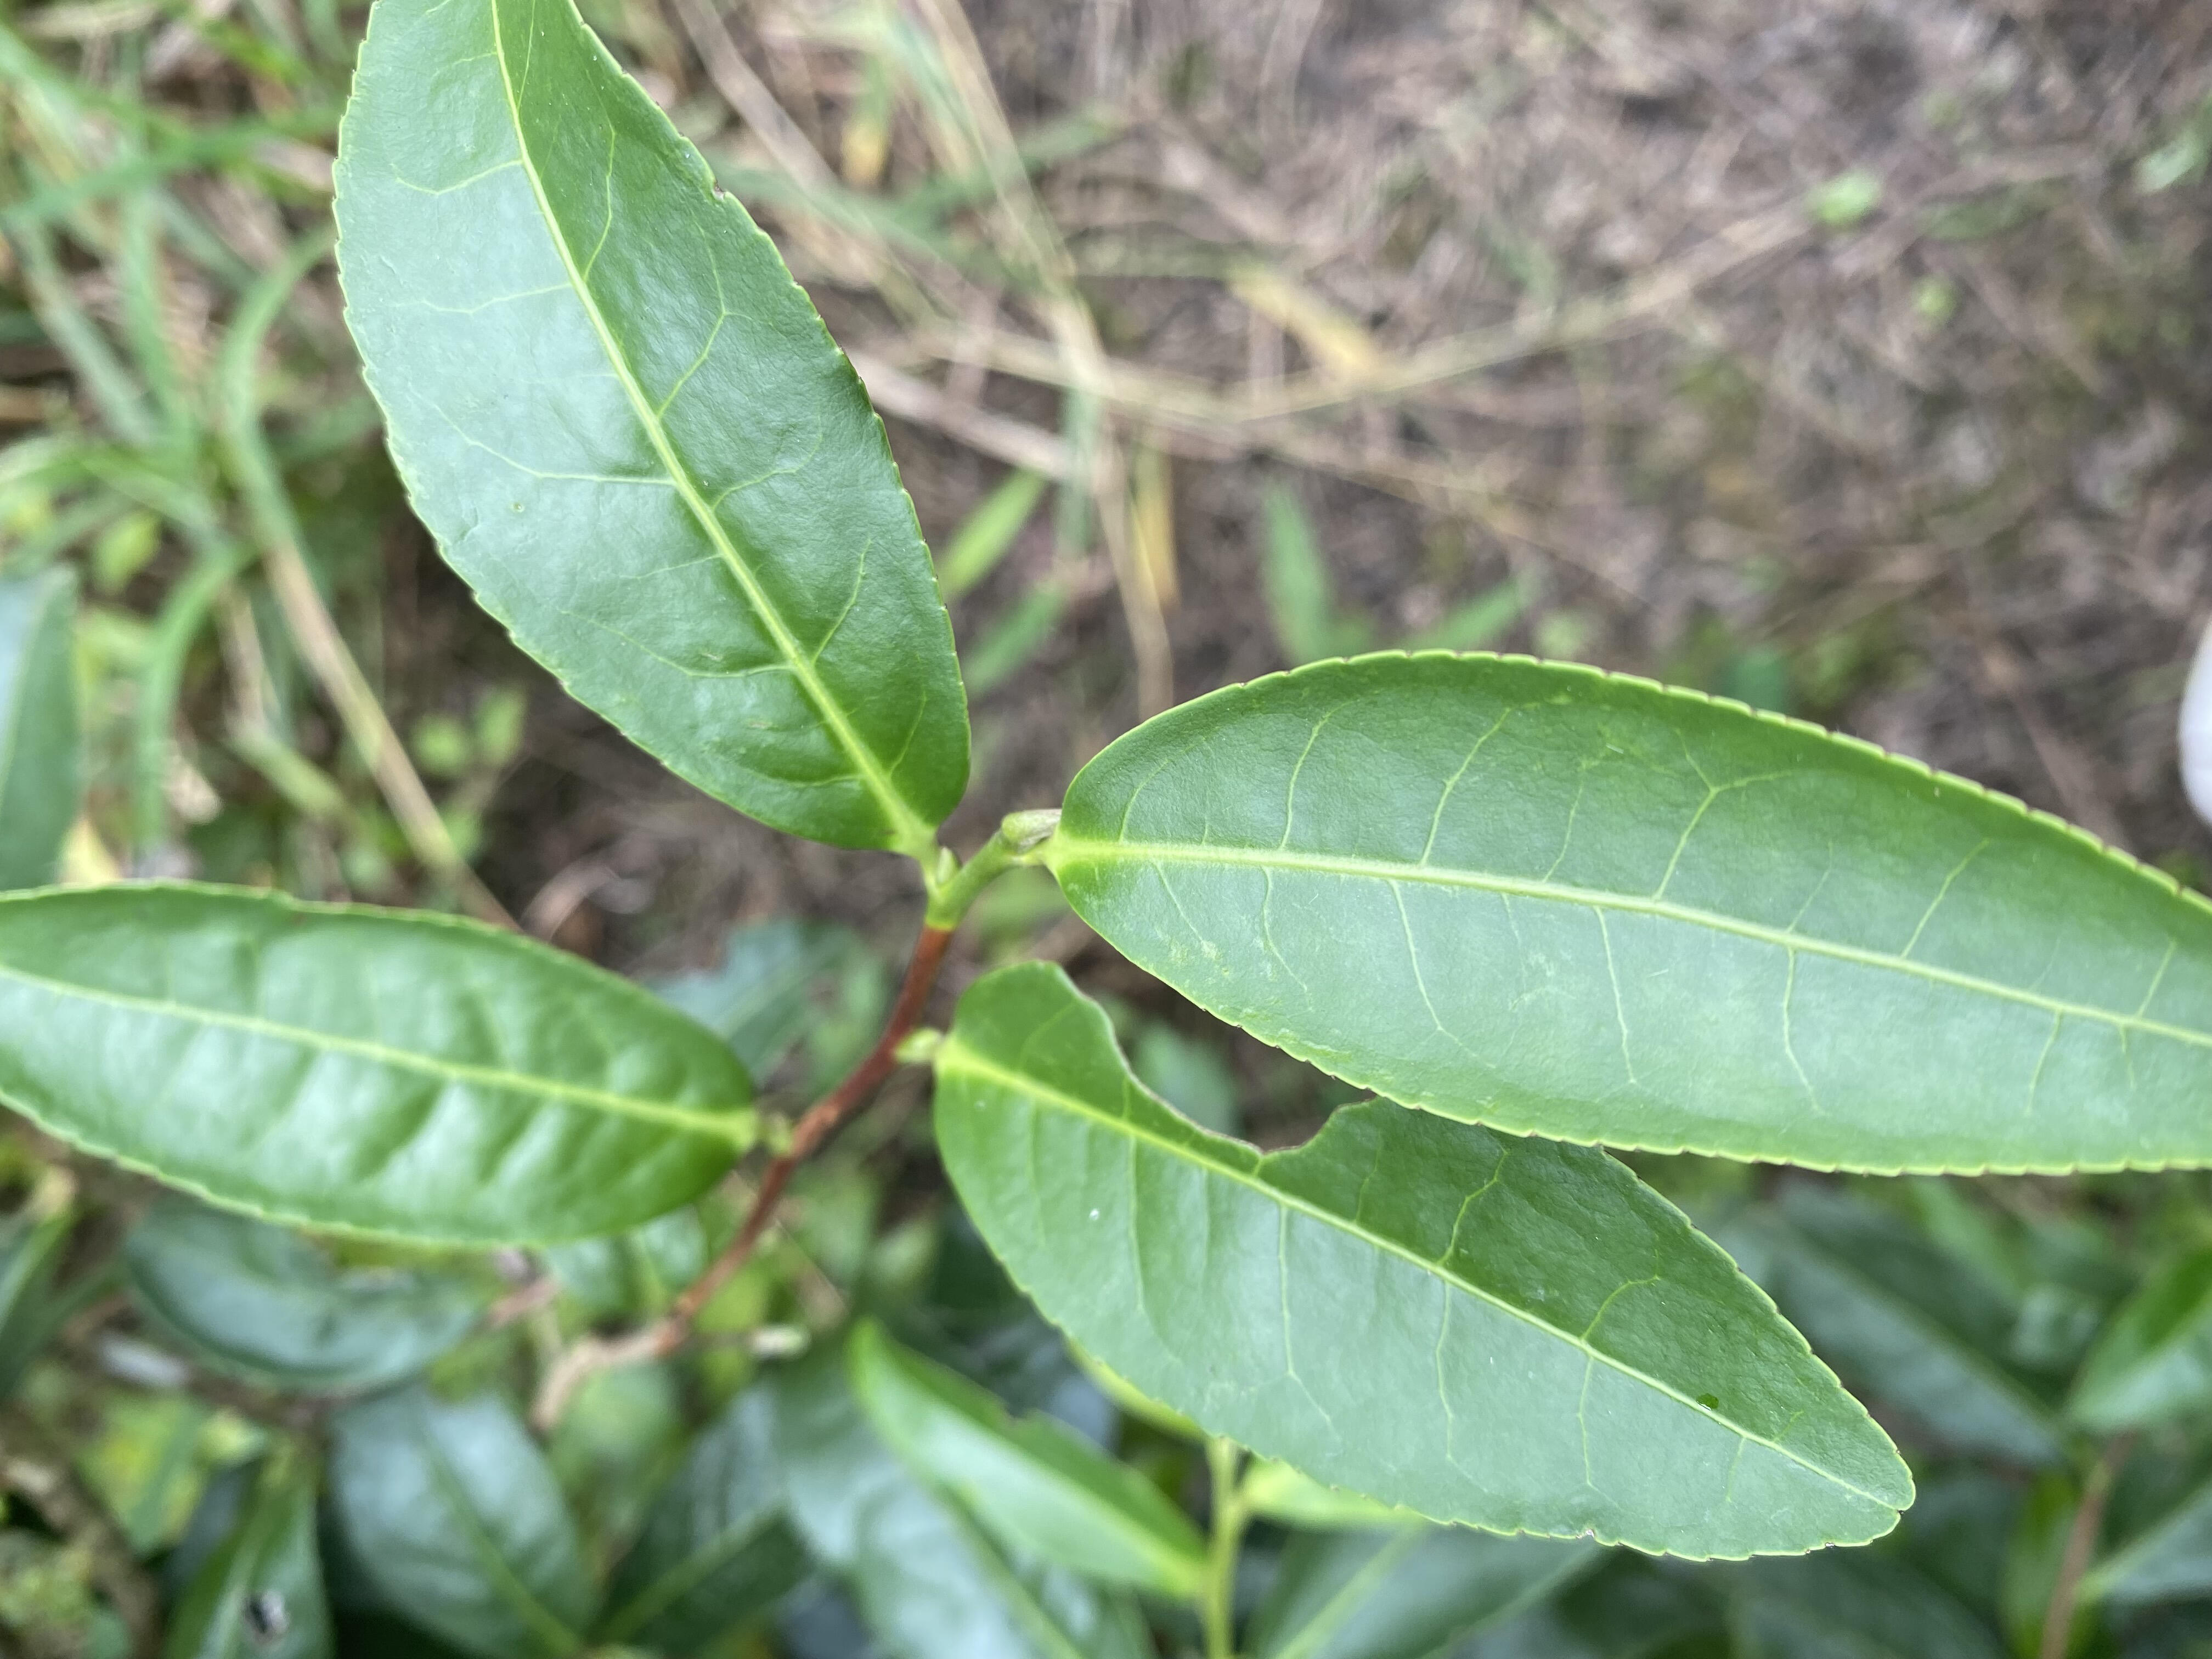chihuo_low: (930, 960, 1918, 1563)
healthy: (1049, 647, 2210, 1182), (327, 2, 970, 854), (2, 875, 763, 1246)
